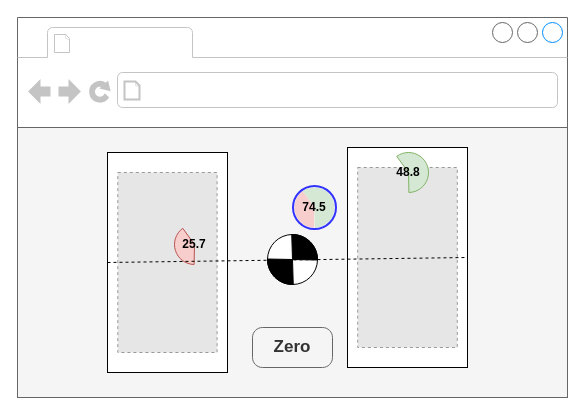
Some shapes in this 585 by 415 pixel diagram are drawn without their labels. Grey dashed boxes stand in for pictures. Here are the shapes that lost their labels. From the top down, the centre of each, then its label:
the point at 132,42: Page 1
the point at 272,90: http://weposture/live
